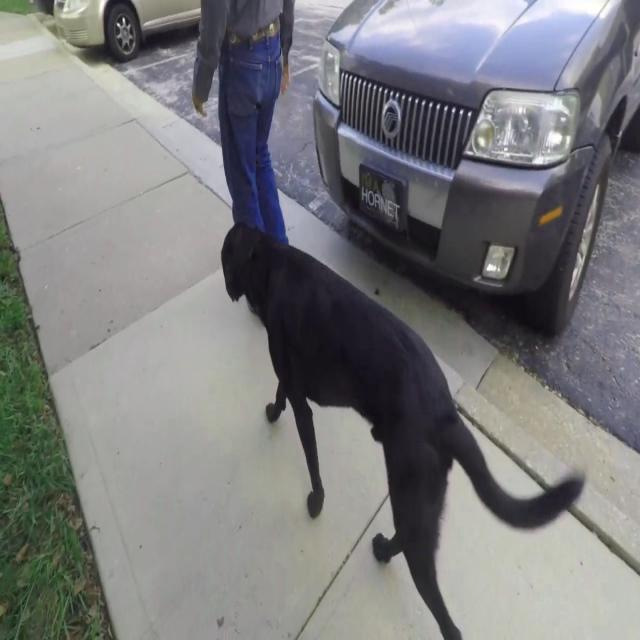Unleashed_Dog: (220, 52, 586, 640)
